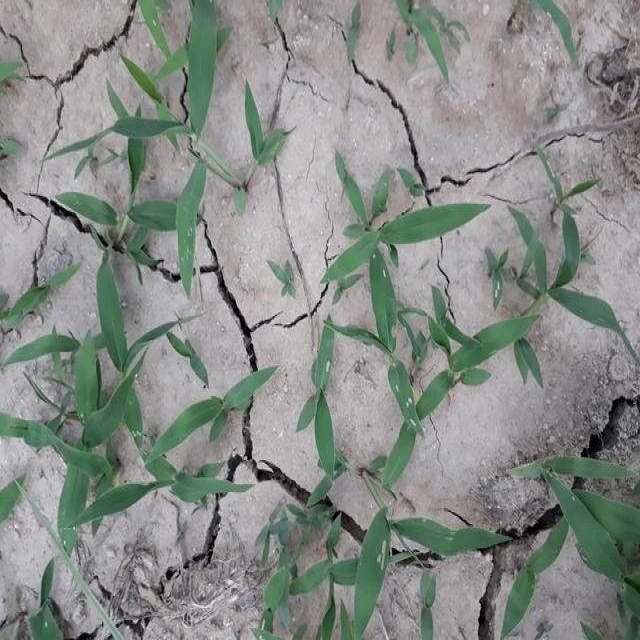weed: (27, 11, 228, 559), (303, 157, 640, 443), (269, 478, 640, 634)
